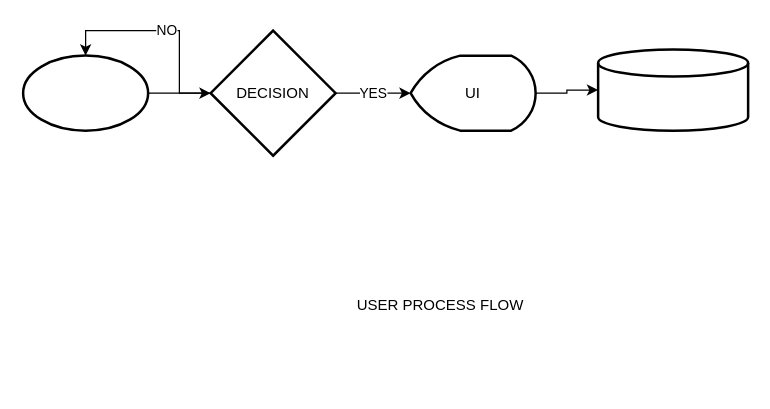
This 770x409 diagram has some shape labels left out. The shapes that lost their labels are listed below. From the top down, each one's centre as x and y in pixels, then its label:
the point at 85,92: START
the point at 672,89: PROPERTY DATABASE
